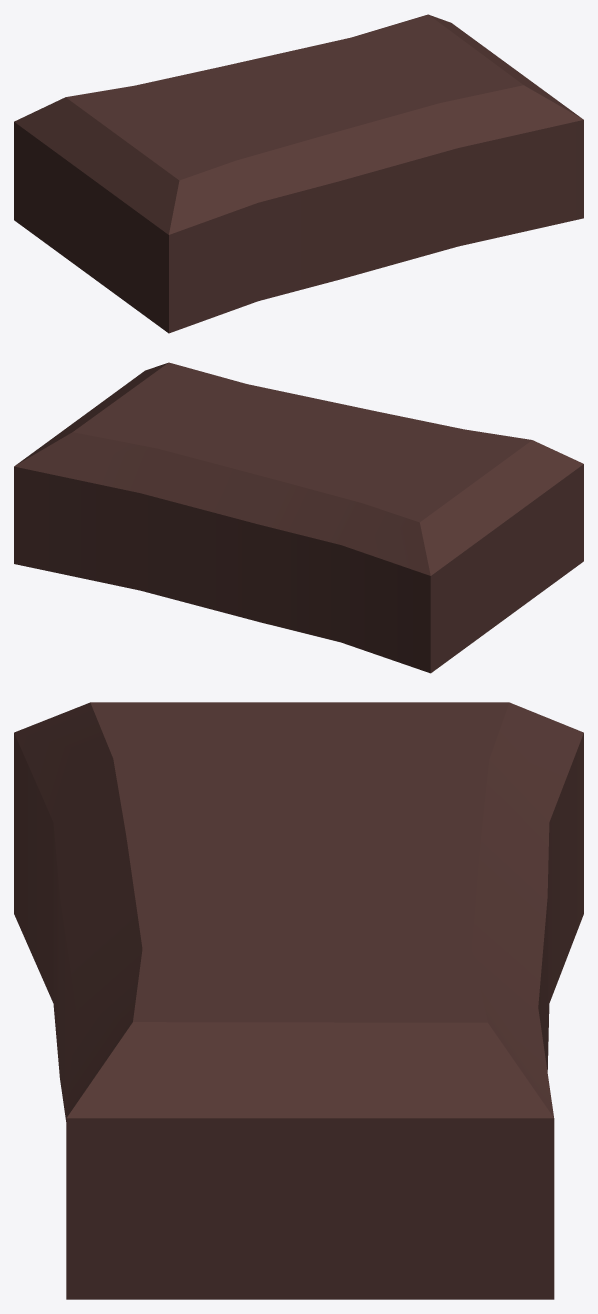
The model's file is quaternius-pirate-ui-red-dash.glb.
3 renders of one model, top to bottom at view 1: azimuth 30°, elevation 25°; view 2: azimuth 150°, elevation 25°; view 3: azimuth 270°, elevation 25°, orthographic. The views are drawn at different scales.
Parts seen in each view (by area): view 1: UI_Red_Dash; view 2: UI_Red_Dash; view 3: UI_Red_Dash.
Boxes of the visible parts, box(x1,y1,x2,y2) form: UI_Red_Dash: box(14, 14, 583, 333); UI_Red_Dash: box(14, 362, 583, 673); UI_Red_Dash: box(14, 702, 583, 1299).
Bounding box in the file's own units: 0.3672 × 0.1064 × 0.2293.
Materials: 1 (1 with a texture image).
